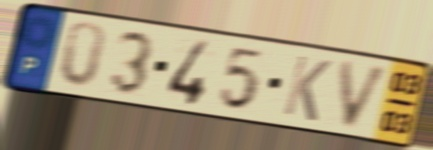0: (57, 20, 110, 91)
3: (108, 29, 158, 97)
4: (164, 36, 212, 108)
5: (216, 45, 270, 112)
K: (279, 52, 334, 125)
V: (338, 58, 394, 133)
